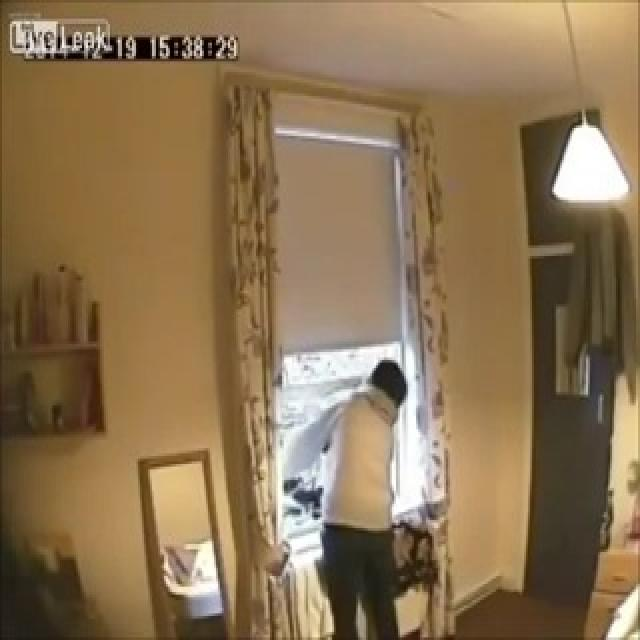thief: (335, 339, 409, 460)
